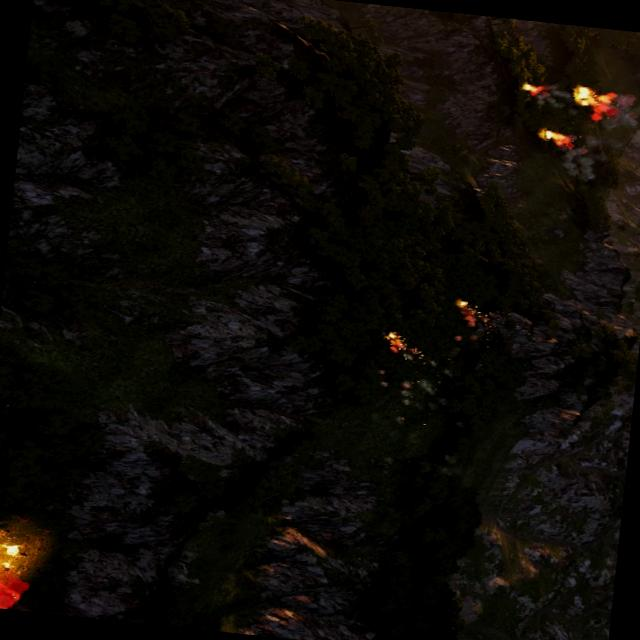fire: (0, 527, 30, 606), (568, 84, 616, 120), (378, 332, 421, 357), (450, 298, 480, 324), (540, 130, 567, 144), (517, 82, 538, 94)
smoke: (553, 144, 597, 182), (530, 82, 566, 108)
